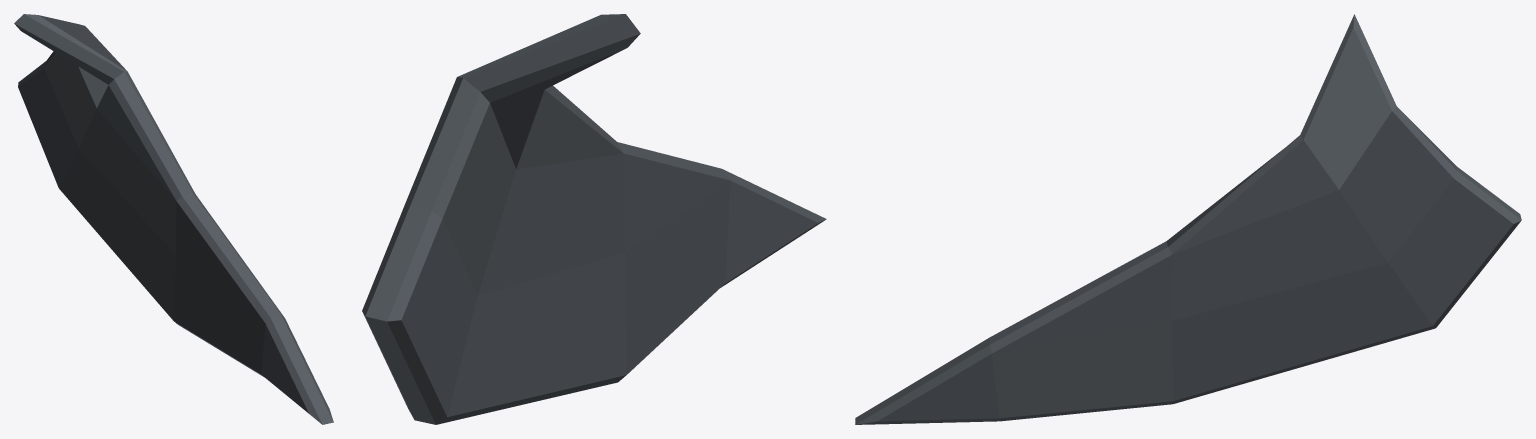
The model's file is Personal_Vehicle_01_Side_Frame_Left_Blue.fbx.
3 renders of one model, left to right at view 1: azimuth 30°, elevation 25°; view 2: azimuth 150°, elevation 25°; view 3: azimuth 270°, elevation 25°, orthographic. The views are drawn at different scales.
Parts seen in each view (by area): view 1: Personal_Vehicle_01_Side_Frame_Left_Blue; view 2: Personal_Vehicle_01_Side_Frame_Left_Blue; view 3: Personal_Vehicle_01_Side_Frame_Left_Blue.
Boxes of the visible parts, x1,y1,x2,y2 form: Personal_Vehicle_01_Side_Frame_Left_Blue: [14, 14, 333, 424]; Personal_Vehicle_01_Side_Frame_Left_Blue: [362, 14, 826, 424]; Personal_Vehicle_01_Side_Frame_Left_Blue: [855, 14, 1521, 424].
Bounding box in the file's own units: 26.57 × 59.38 × 103.
1 material, 1 textured.
